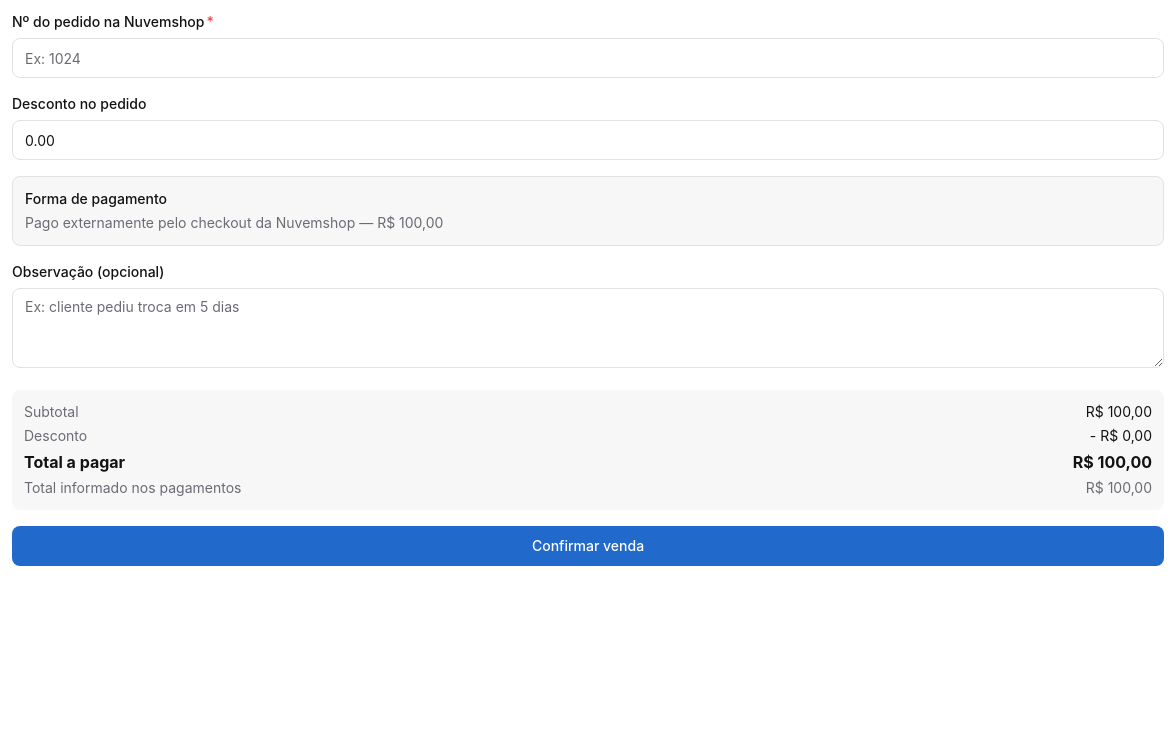
Test: PdvPagamentoForm — canais de venda › pedido duplicado (409) › mostra mensagem amigável no campo e mantém o carrinho
The width and height of the screenshot is (1176, 732).
Step 1. Type "1024" into the field labelled "Nº do pedido na Nuvemshop*" → (588, 58), box [12,38,1164,78]
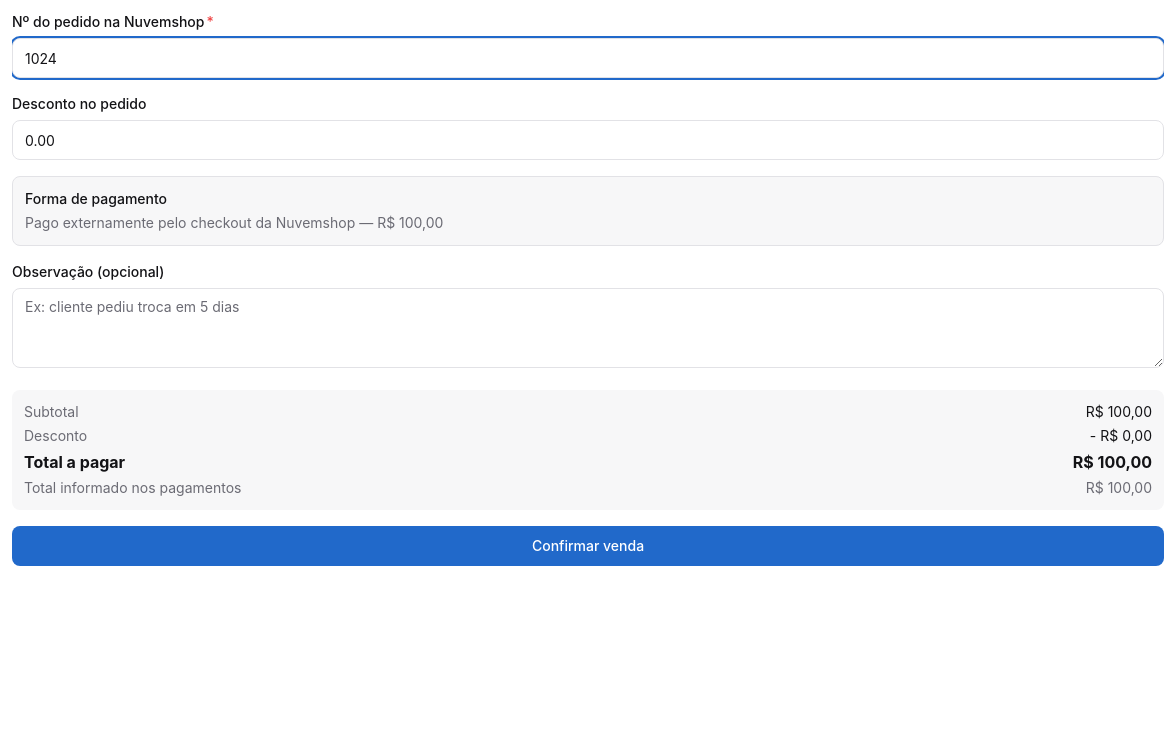
Step 2. Click the button "Confirmar venda" → (588, 546), box [12,526,1164,566]
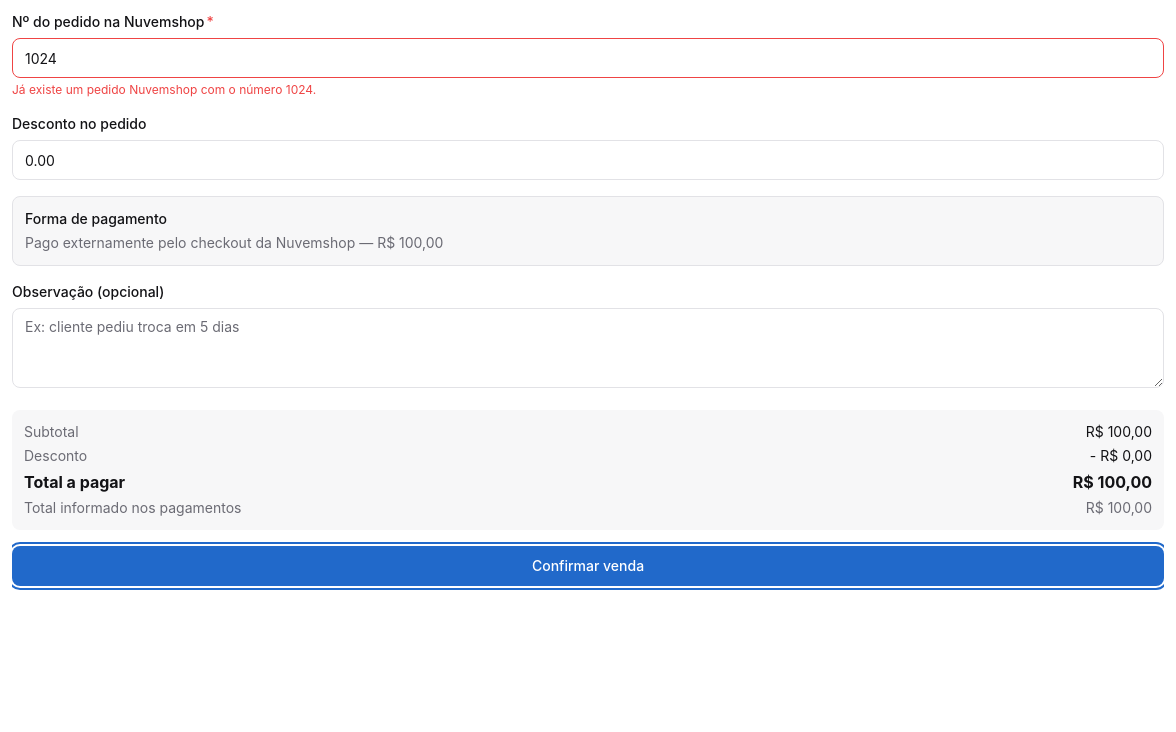
Check: the text "Já existe um pedido Nuvemshop com o número 1024." is shown, box [12,82,316,97]
